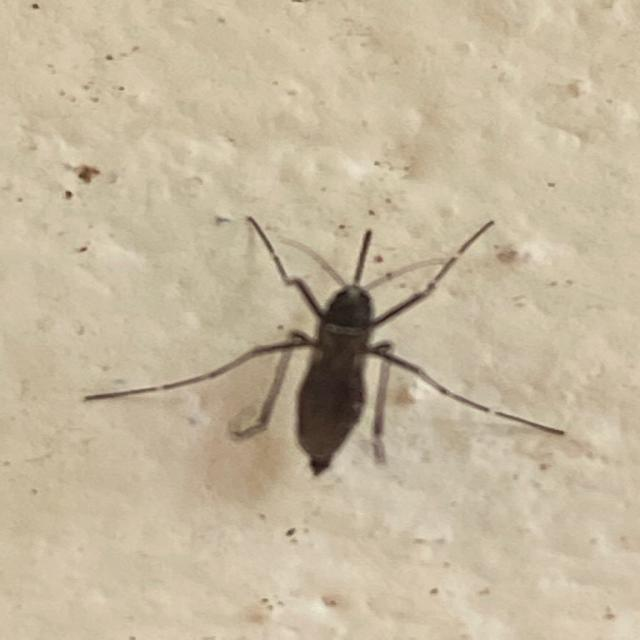albopictus: (80, 183, 585, 477)
